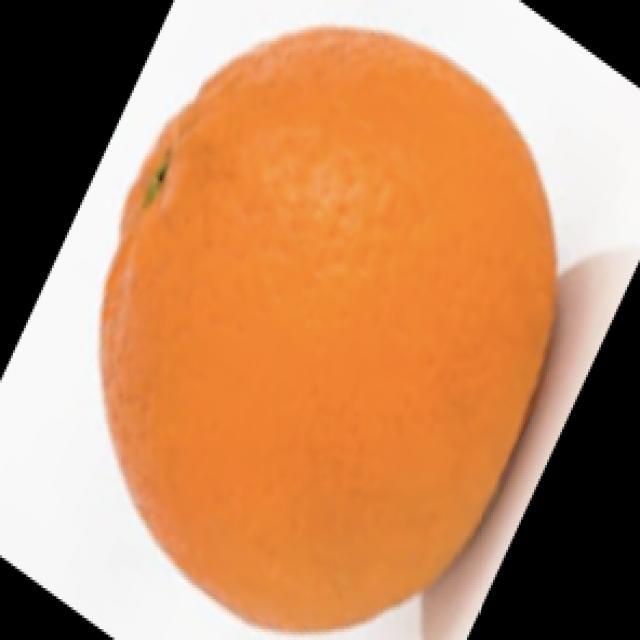fresh: (60, 6, 570, 638)
